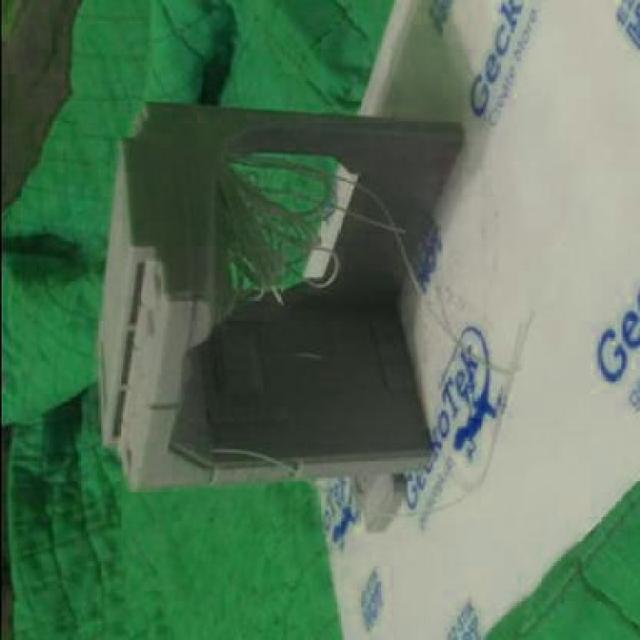spaghetti: (200, 140, 409, 324)
